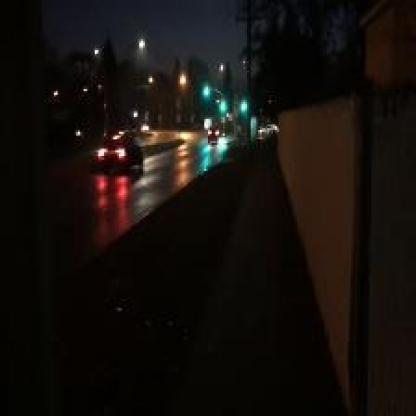other: (83, 132, 141, 234), (166, 66, 194, 186)
